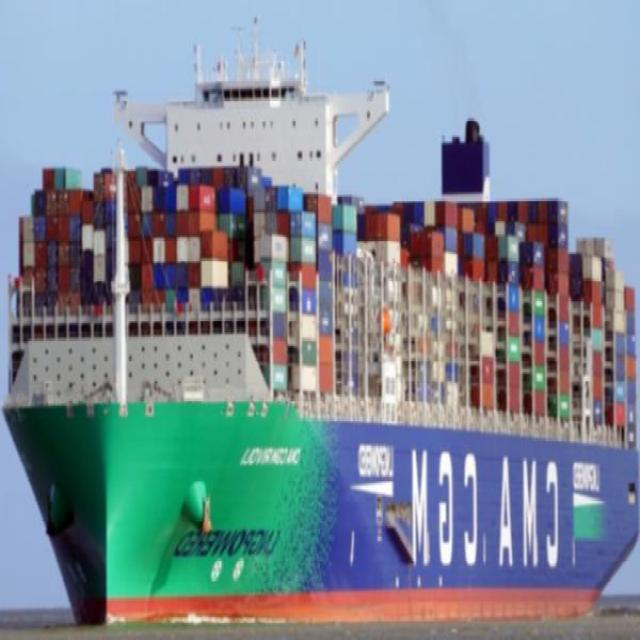Container Ship: (4, 16, 638, 630)
